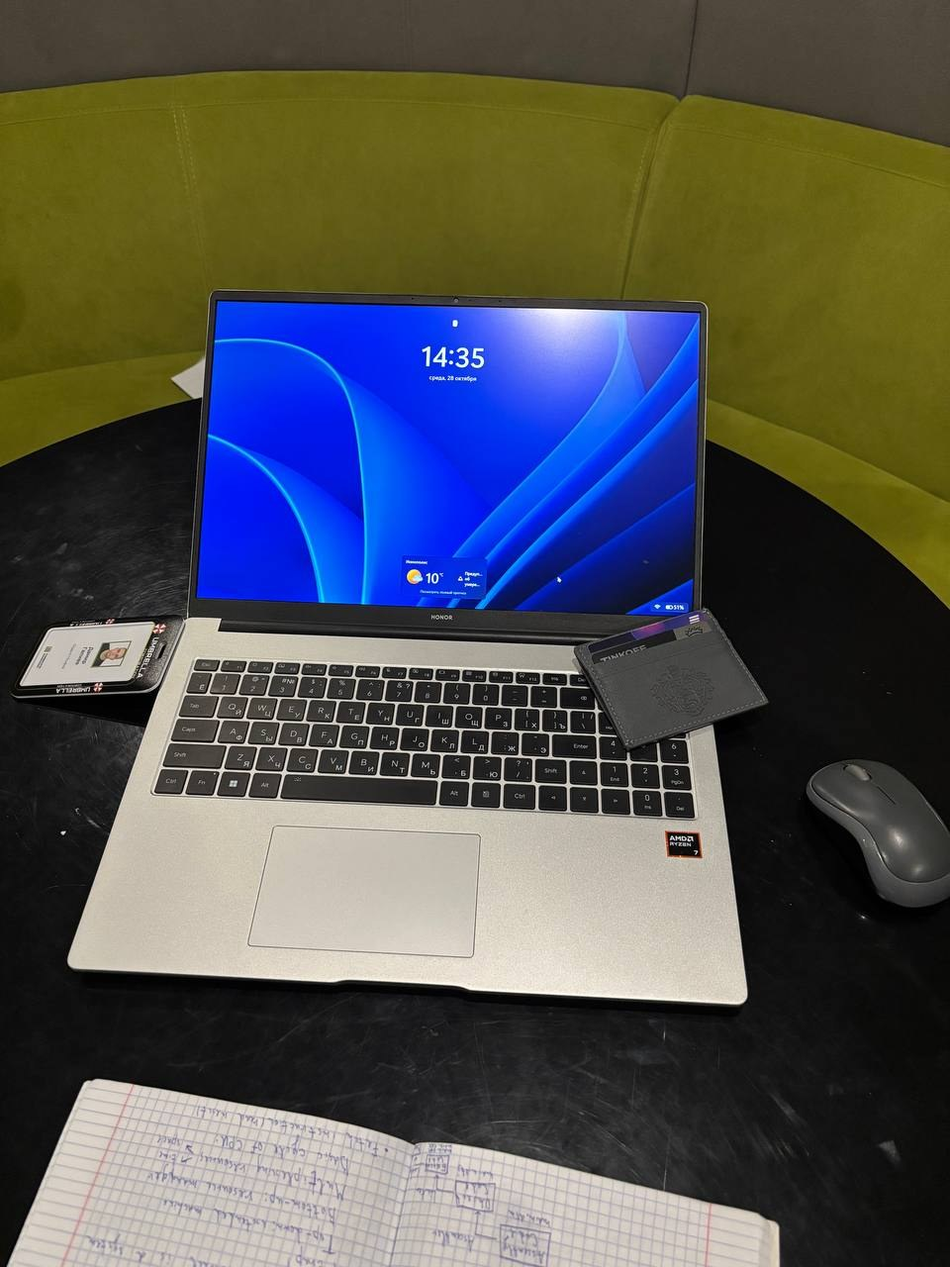laptop: (66, 288, 751, 1007)
